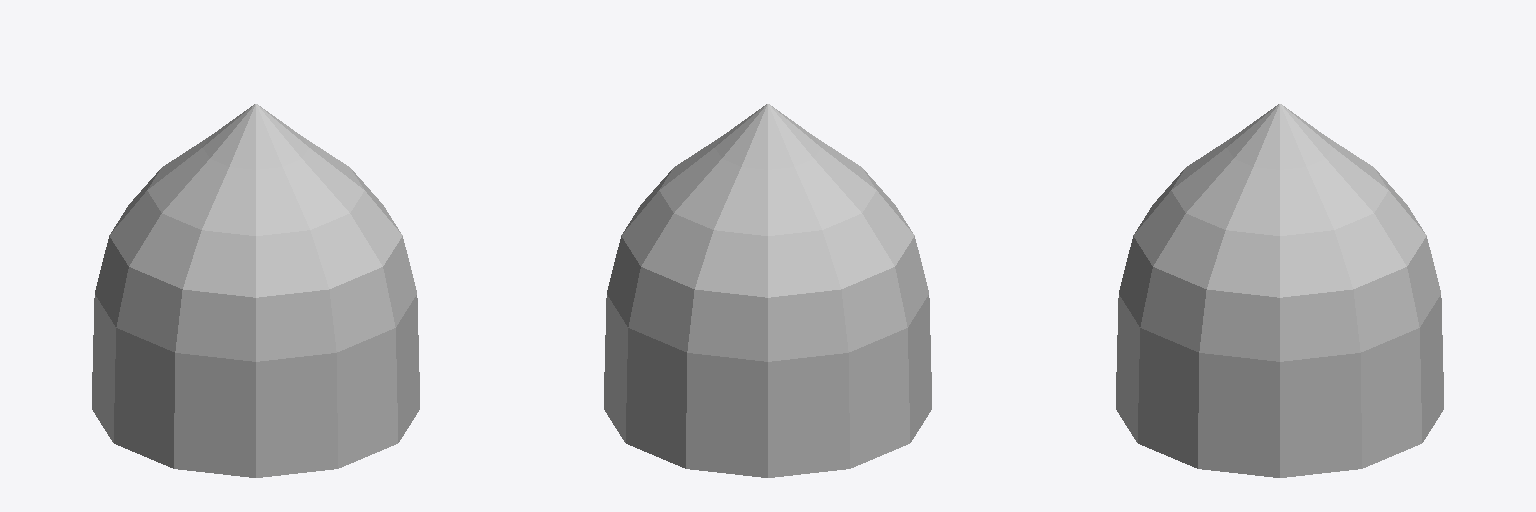
The model's file is roundPointyTip.obj.
3 views of the same model, side by side, from view 1: azimuth 30°, elevation 25°; view 2: azimuth 150°, elevation 25°; view 3: azimuth 270°, elevation 25° (orthographic).
Size of the model in its own units: 2 by 2.05 by 2.